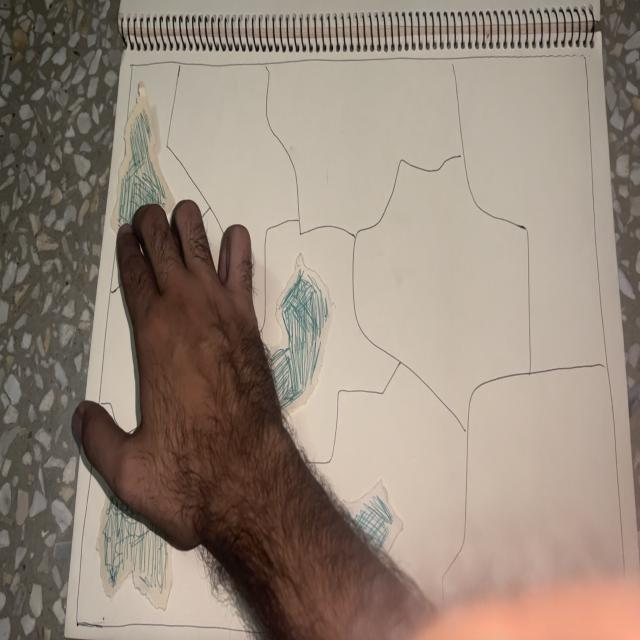paper: (262, 240, 340, 438), (107, 79, 174, 251), (96, 484, 180, 606), (334, 476, 414, 586)
